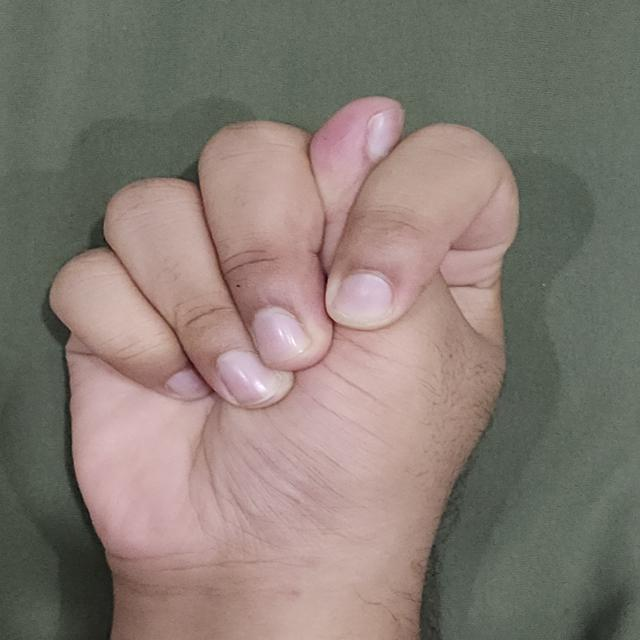ب: (40, 79, 553, 640)
